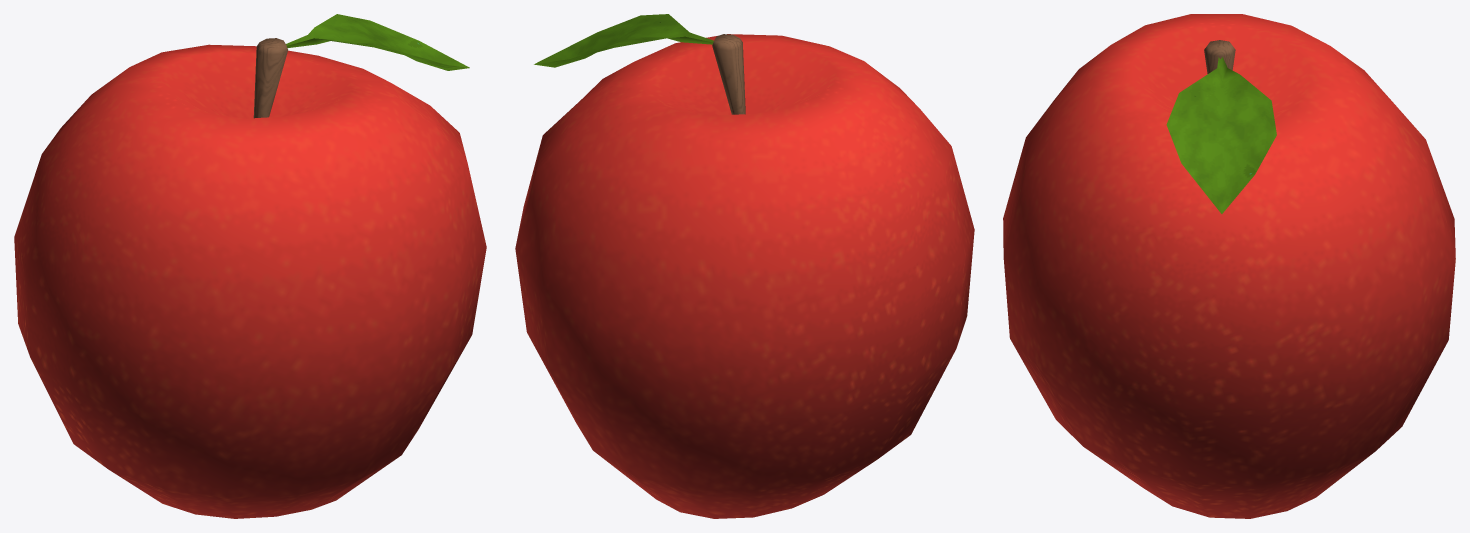
Rendered from applered.glb.
3 renders of one model, left to right at view 1: azimuth 30°, elevation 25°; view 2: azimuth 150°, elevation 25°; view 3: azimuth 270°, elevation 25°, orthographic. The views are drawn at different scales.
Visible parts, largest first — view 1: applered, fruitB.001, fruitB.002; view 2: applered, fruitB.001, fruitB.002; view 3: applered, fruitB.001, fruitB.002.
Part boxes in pixels (left/top/right/bottom): applered: left=14, top=44, right=486, bottom=518; fruitB.001: left=286, top=14, right=469, bottom=70; fruitB.002: left=253, top=38, right=287, bottom=118; applered: left=515, top=34, right=974, bottom=518; fruitB.001: left=534, top=14, right=713, bottom=67; fruitB.002: left=712, top=34, right=745, bottom=114; applered: left=1003, top=14, right=1455, bottom=518; fruitB.001: left=1166, top=57, right=1276, bottom=213; fruitB.002: left=1204, top=40, right=1235, bottom=73.
Size of the model in its own units: 0.2917 by 0.2963 by 0.2742.
Materials: 1 (1 with a texture image).
